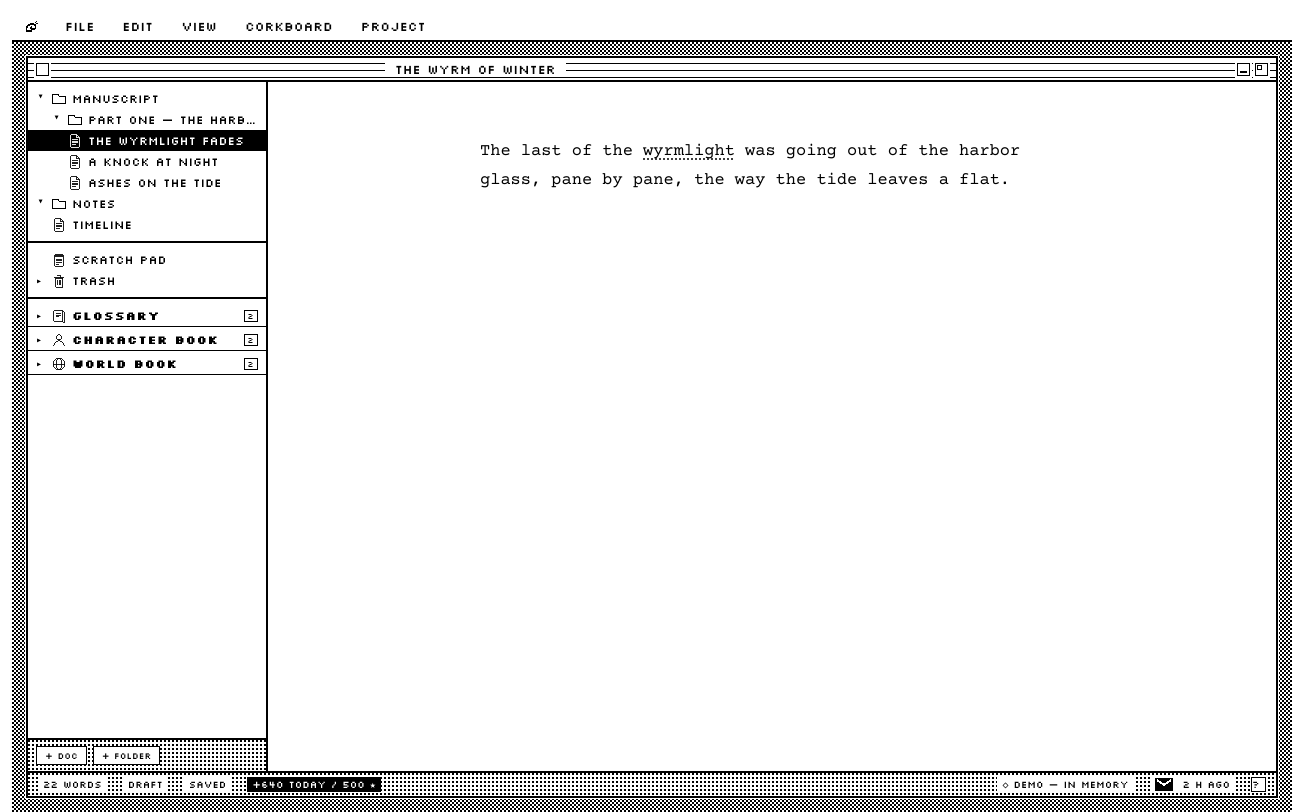
Test: focus mode (F-09) › the menu item label flips with the state and stays reachable
Expected: the element named "Binder" is shown, [28,91,266,375]
Press the mouse on the menu item "View" at (199, 26), box [167,12,231,40]
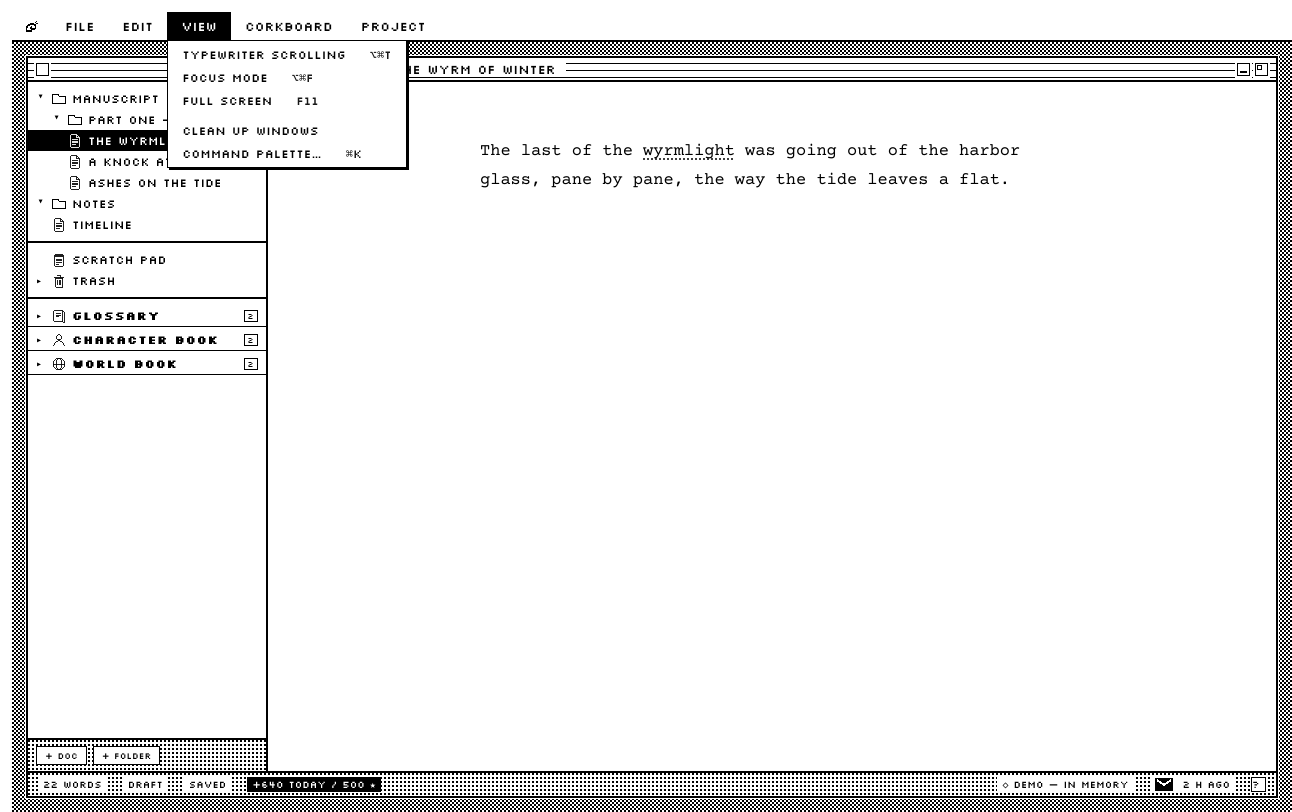
Now the text "Focus Mode" is shown
Press the mouse on the text "Focus Mode" at (225, 78), box [182,70,268,85]
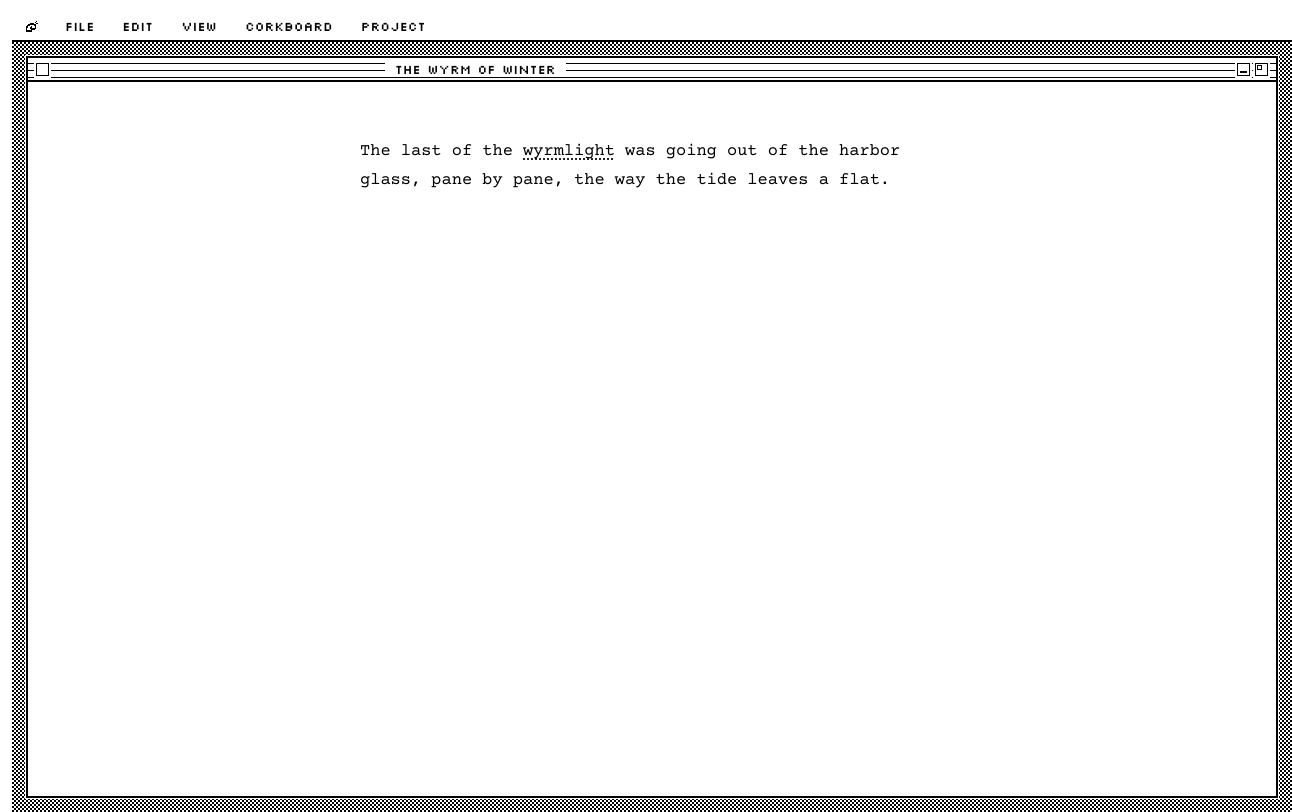
Press the mouse on the menu item "View" at (199, 26), box [167,12,231,40]
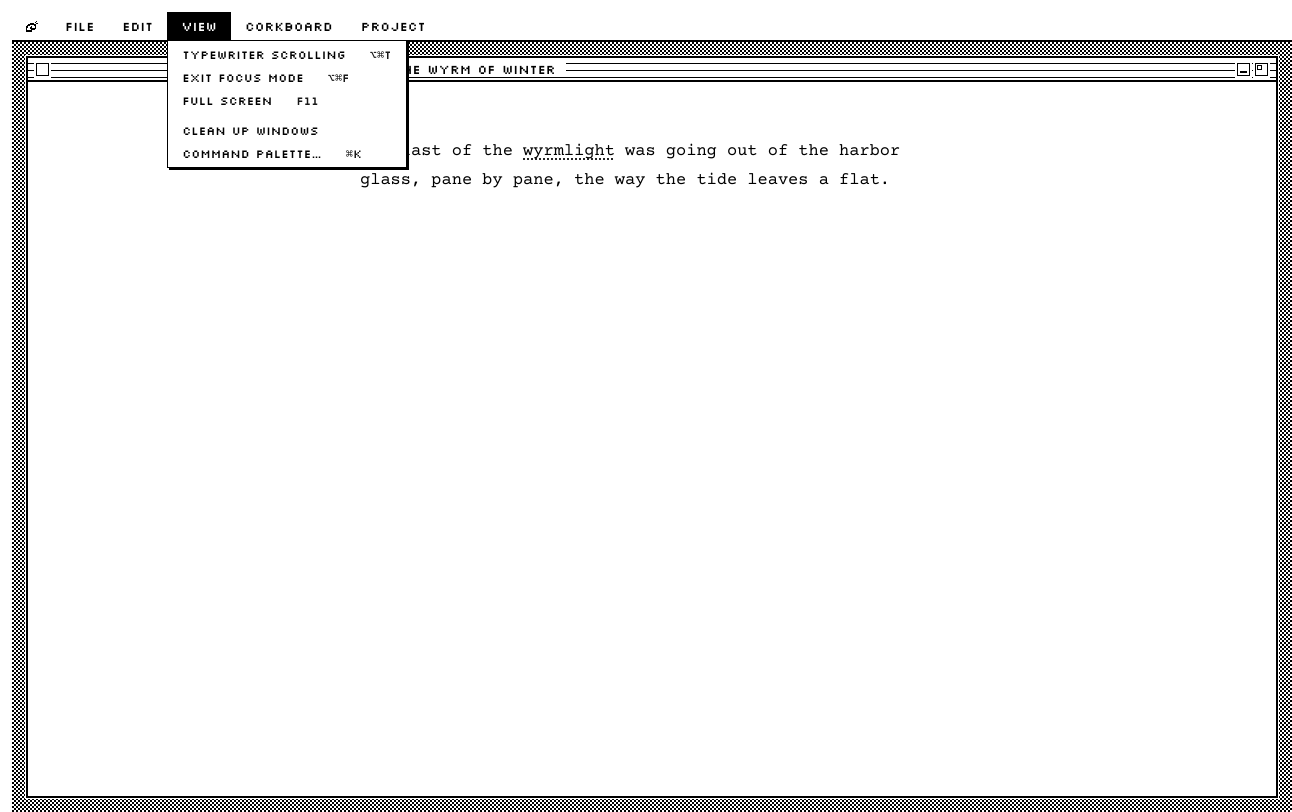
Now the text "Exit Focus Mode" is shown, box [182,70,304,85]
